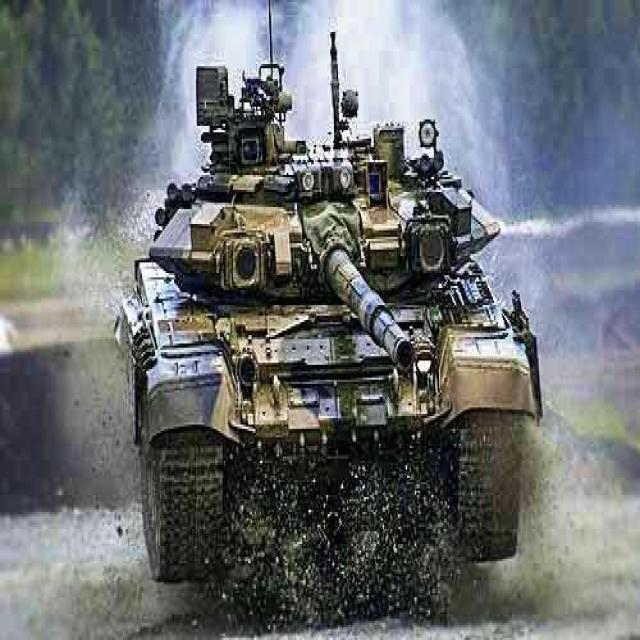Tanks: (123, 38, 530, 600)
